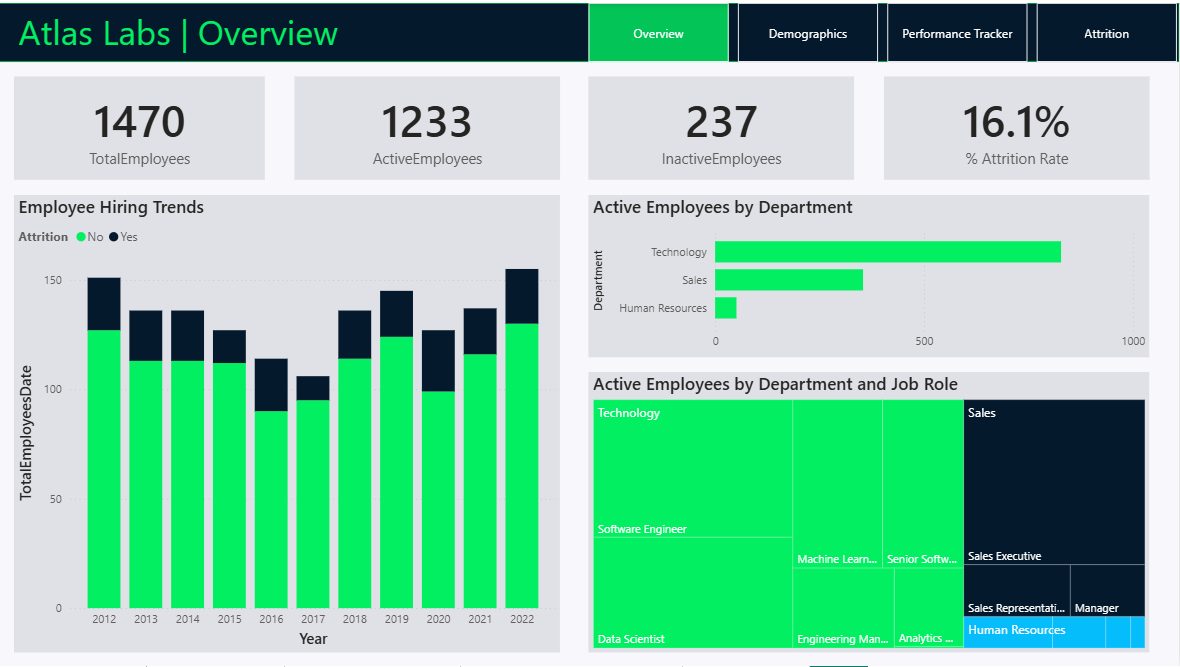

Layout of this report page (visuals, bound fields, positions):
{"tool":"powerbi","page":{"name":"Overview","canvas":[1280,720],"ordinal":0},"visuals":[{"type":"card","fields":{"Values":["_Measures.TotalEmployees"]},"box":[16,80,272,112],"z":0},{"type":"card","fields":{"Values":["_Measures.ActiveEmployees"]},"box":[320,80,288,112],"z":1000},{"type":"card","fields":{"Values":["_Measures.InactiveEmployees"]},"box":[640,80,288,112],"z":2000},{"type":"card","fields":{"Values":["_Measures.% Attrition Rate"]},"box":[960,80,288,112],"z":3000},{"type":"columnChart","title":"Employee Hiring Trends","fields":{"Category":["DimDate.Date.Variation.Date Hierarchy.Year","DimDate.Date.Variation.Date Hierarchy.Quarter","DimDate.Date.Variation.Date Hierarchy.Month","DimDate.Date.Variation.Date Hierarchy.Day"],"Y":["_Measures.TotalEmployeesDate"],"Series":["DimEmployee.Attrition"]},"box":[16,208,592,496],"z":4000},{"type":"clusteredBarChart","title":"Active Employees by Department","fields":{"Category":["DimEmployee.Department"],"Y":["_Measures.ActiveEmployees"]},"box":[640,208,608,176],"z":5000},{"type":"treemap","title":"Active Employees by Department and Job Role","fields":{"Values":["_Measures.ActiveEmployees"],"Group":["DimEmployee.Department"],"Details":["DimEmployee.JobRole"]},"box":[640,400,608,304],"z":6000},{"type":"shape","box":[0,0,1280,64],"z":7000},{"type":"textbox","box":[16,0,448,64],"z":8000},{"type":"pageNavigator","box":[640,0,640,64],"z":9000}]}

Visuals, with their boxes in screenshot pixels (x1, y1, x2, y2), scaled from the page's 1280x720 canvas onto the 1180x667 screenshot:
card - _Measures.TotalEmployees: {"left": 15, "top": 74, "right": 266, "bottom": 178}
card - _Measures.ActiveEmployees: {"left": 295, "top": 74, "right": 560, "bottom": 178}
card - _Measures.InactiveEmployees: {"left": 590, "top": 74, "right": 856, "bottom": 178}
card - _Measures.% Attrition Rate: {"left": 885, "top": 74, "right": 1150, "bottom": 178}
"Employee Hiring Trends" columnChart: {"left": 15, "top": 193, "right": 560, "bottom": 652}
"Active Employees by Department" clusteredBarChart: {"left": 590, "top": 193, "right": 1150, "bottom": 356}
"Active Employees by Department and Job Role" treemap: {"left": 590, "top": 371, "right": 1150, "bottom": 652}
shape: {"left": 0, "top": 0, "right": 1179, "bottom": 59}
textbox: {"left": 15, "top": 0, "right": 428, "bottom": 59}
pageNavigator: {"left": 590, "top": 0, "right": 1179, "bottom": 59}
